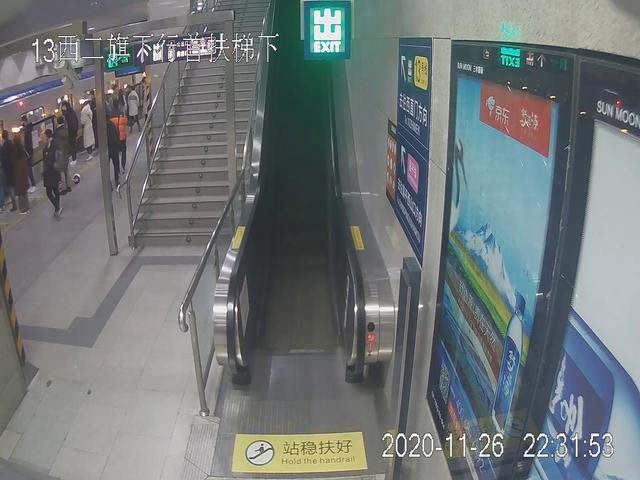person: (38, 130, 65, 219), (8, 134, 31, 214), (53, 117, 75, 192), (79, 103, 95, 160), (126, 87, 140, 133)
